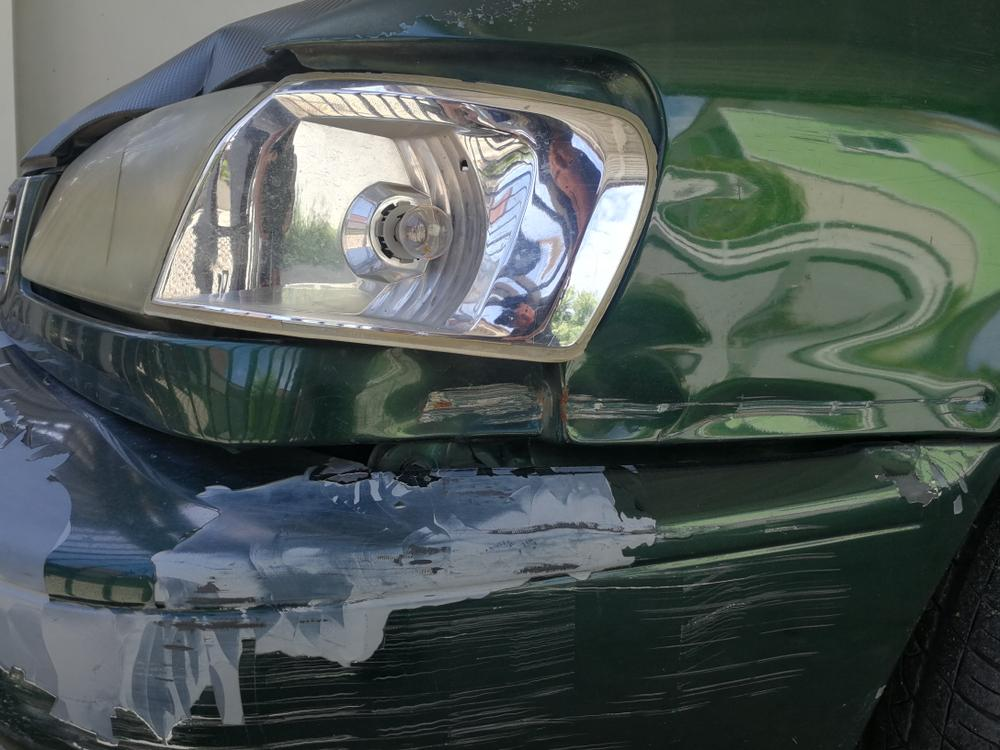dent: (561, 155, 1000, 437), (388, 369, 552, 434)
lamp broken: (146, 74, 660, 362)
scratch: (91, 469, 841, 750)
